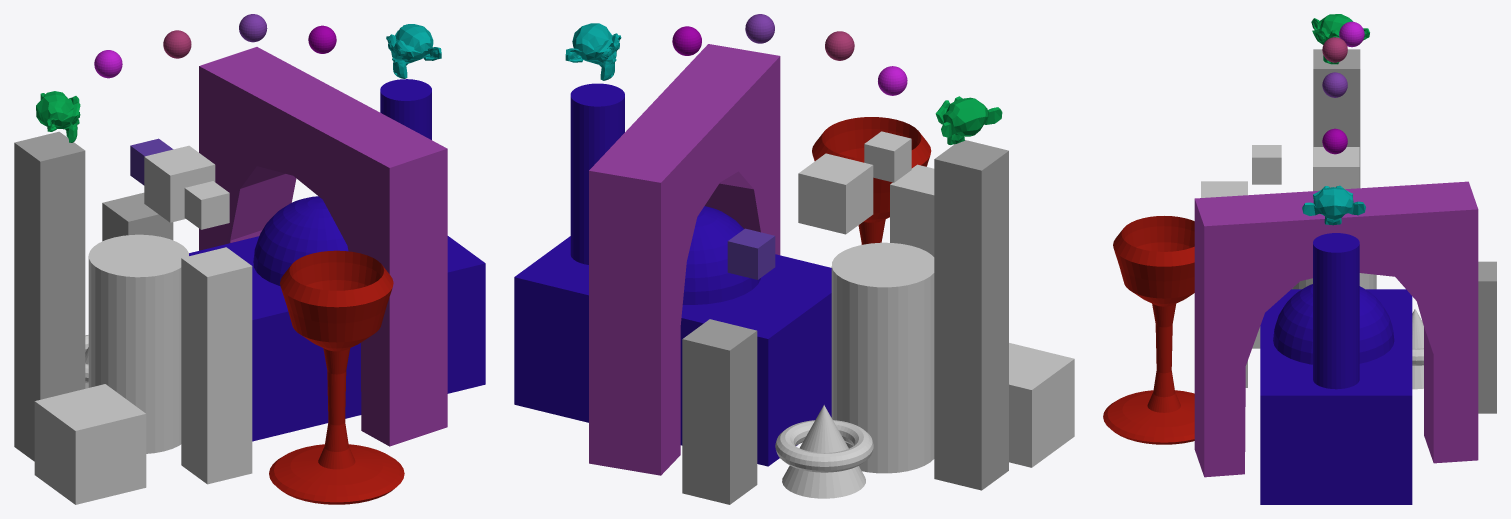
The model's file is cityblend.obj.
3 views of the same model, side by side, from view 1: azimuth 30°, elevation 25°; view 2: azimuth 150°, elevation 25°; view 3: azimuth 270°, elevation 25° (orthographic). The views are drawn at different scales.
Parts seen in each view (by area): view 1: Plane_Plane.001, Cube.002, Cube, Plane.001_Plane.002, Cylinder, Cube.004, Cube.003, Cube.007, Cube.001, Cube.006, Suzanne.001, Suzanne (+5 smaller); view 2: Plane_Plane.001, Cube.002, Cube, Cylinder, Cube.001, Cube.003, Cone, Cube.007, Plane.001_Plane.002, Cube.004, Cube.005, Suzanne (+6 smaller); view 3: Plane_Plane.001, Cube.002, Plane.001_Plane.002, Cube, Cube.001, Cube.007, Suzanne.001, Cube.006, Cone, Suzanne, Cube.004, Sphere.003 (+3 smaller).
Boxes of the visible parts, left/top/right/bottom form: Plane_Plane.001: left=199, top=47, right=447, bottom=446; Cube.002: left=189, top=79, right=485, bottom=441; Cube: left=14, top=131, right=85, bottom=461; Plane.001_Plane.002: left=269, top=250, right=404, bottom=504; Cylinder: left=88, top=234, right=188, bottom=453; Cube.004: left=181, top=247, right=252, bottom=484; Cube.003: left=34, top=384, right=146, bottom=504; Cube.007: left=144, top=145, right=215, bottom=222; Cube.001: left=102, top=192, right=173, bottom=241; Cube.006: left=184, top=181, right=229, bottom=229; Suzanne.001: left=386, top=24, right=441, bottom=78; Suzanne: left=36, top=91, right=80, bottom=142; Plane_Plane.001: left=589, top=44, right=780, bottom=475; Cube.002: left=514, top=83, right=831, bottom=466; Cube: left=934, top=140, right=1008, bottom=490; Cylinder: left=831, top=242, right=934, bottom=473; Cube.001: left=682, top=319, right=757, bottom=504; Cube.003: left=1009, top=343, right=1074, bottom=467; Cone: left=775, top=405, right=873, bottom=498; Cube.007: left=798, top=153, right=873, bottom=234; Plane.001_Plane.002: left=812, top=117, right=931, bottom=244; Cube.004: left=890, top=164, right=934, bottom=256; Cube.005: left=727, top=228, right=775, bottom=279; Suzanne: left=935, top=96, right=1002, bottom=144; Plane_Plane.001: left=1194, top=181, right=1478, bottom=477; Cube.002: left=1260, top=233, right=1412, bottom=504; Plane.001_Plane.002: left=1103, top=216, right=1194, bottom=444; Cube: left=1313, top=49, right=1360, bottom=187; Cube.001: left=1478, top=261, right=1496, bottom=413; Cube.007: left=1313, top=147, right=1359, bottom=190; Suzanne.001: left=1302, top=185, right=1365, bottom=225; Cube.006: left=1252, top=145, right=1281, bottom=184; Cone: left=1412, top=309, right=1423, bottom=389; Suzanne: left=1311, top=14, right=1369, bottom=64; Cube.004: left=1201, top=181, right=1247, bottom=387; Sphere.003: left=1322, top=37, right=1347, bottom=62.
Bounding box in the file's own units: 19.06 × 16.66 × 16.8.
